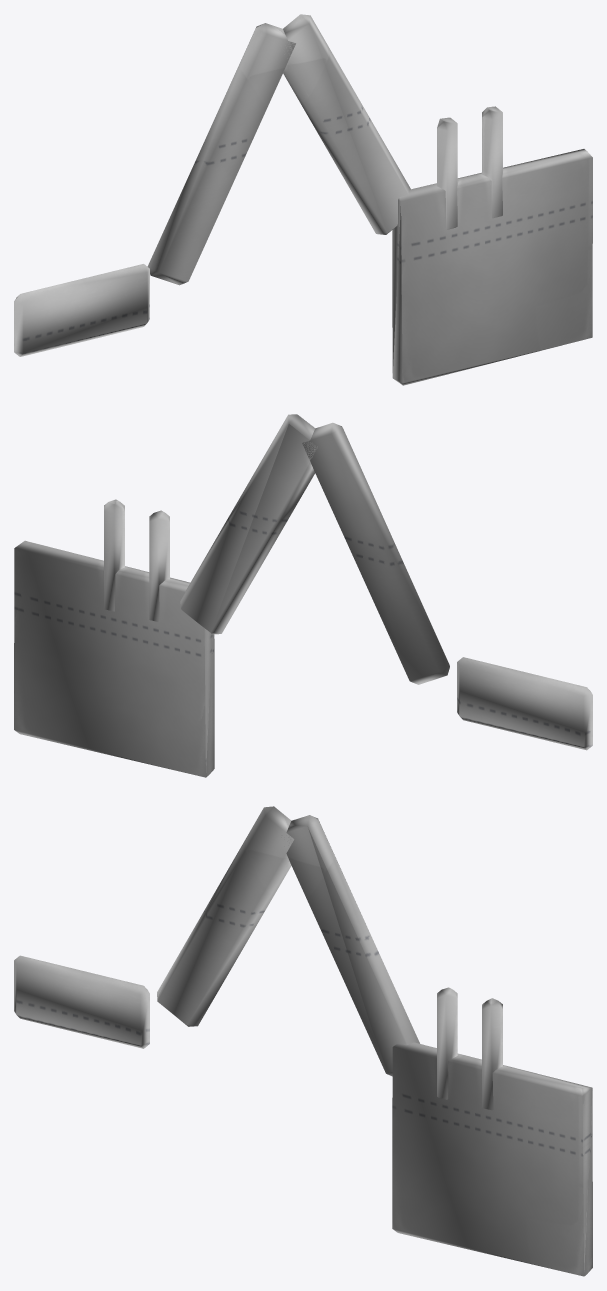
The model's file is UpperTorso_C2.fbx.
The picture shows the model from 3 angles, top to bottom: view 1: azimuth 30°, elevation 25°; view 2: azimuth 150°, elevation 25°; view 3: azimuth 330°, elevation 25°; orthographic projection.
Parts seen in each view (by area): view 1: Civ_UniformeEnfermeria_UpperTorso_C2; view 2: Civ_UniformeEnfermeria_UpperTorso_C2; view 3: Civ_UniformeEnfermeria_UpperTorso_C2.
Part boxes in pixels (x1=…): Civ_UniformeEnfermeria_UpperTorso_C2: x1=14, y1=14, x2=592, y2=385; Civ_UniformeEnfermeria_UpperTorso_C2: x1=14, y1=414, x2=592, y2=777; Civ_UniformeEnfermeria_UpperTorso_C2: x1=14, y1=806, x2=592, y2=1276.
Bounding box in the file's own units: 1.36 × 0.8807 × 0.0607.
